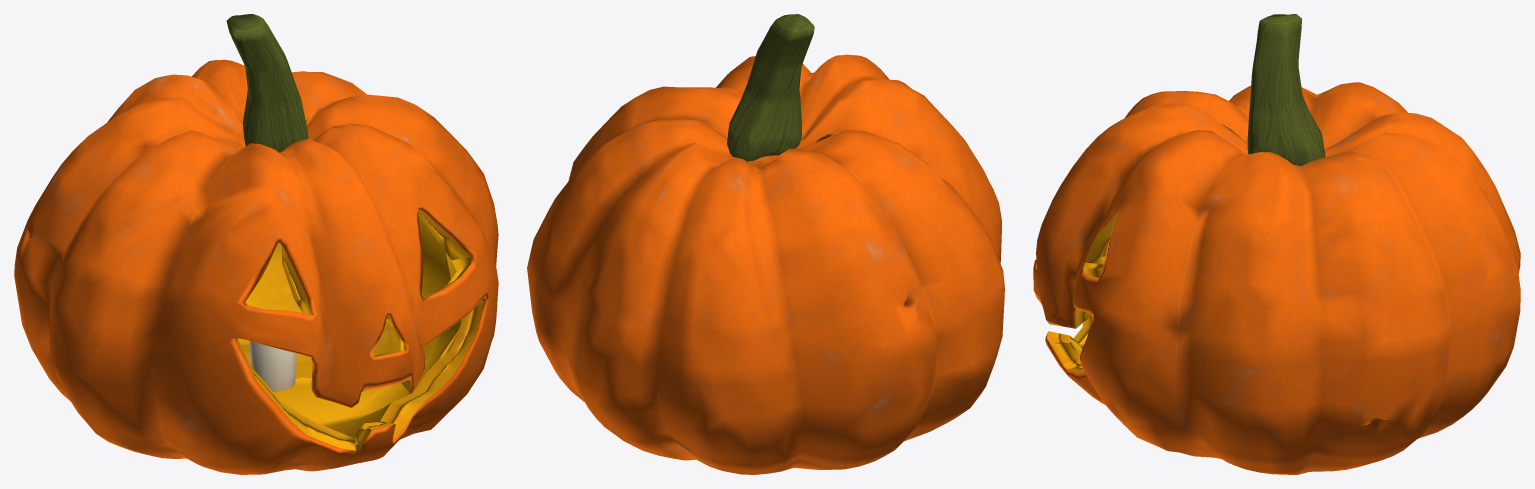
The model's file is object_pumpkin.fbx.
The picture shows the model from 3 angles, left to right: view 1: azimuth 30°, elevation 25°; view 2: azimuth 150°, elevation 25°; view 3: azimuth 270°, elevation 25°; orthographic projection. The views are drawn at different scales.
Parts seen in each view (by area): view 1: CANDLE:object_pumpkin; view 2: CANDLE:object_pumpkin; view 3: CANDLE:object_pumpkin.
Part boxes in pixels (x1,y1,x2,y2): CANDLE:object_pumpkin: [14, 14, 498, 474]; CANDLE:object_pumpkin: [527, 14, 1004, 474]; CANDLE:object_pumpkin: [1033, 14, 1520, 474].
Size of the model in its own units: 0.9897 by 0.9001 by 1.01.
Materials: 2 (2 with a texture image).
